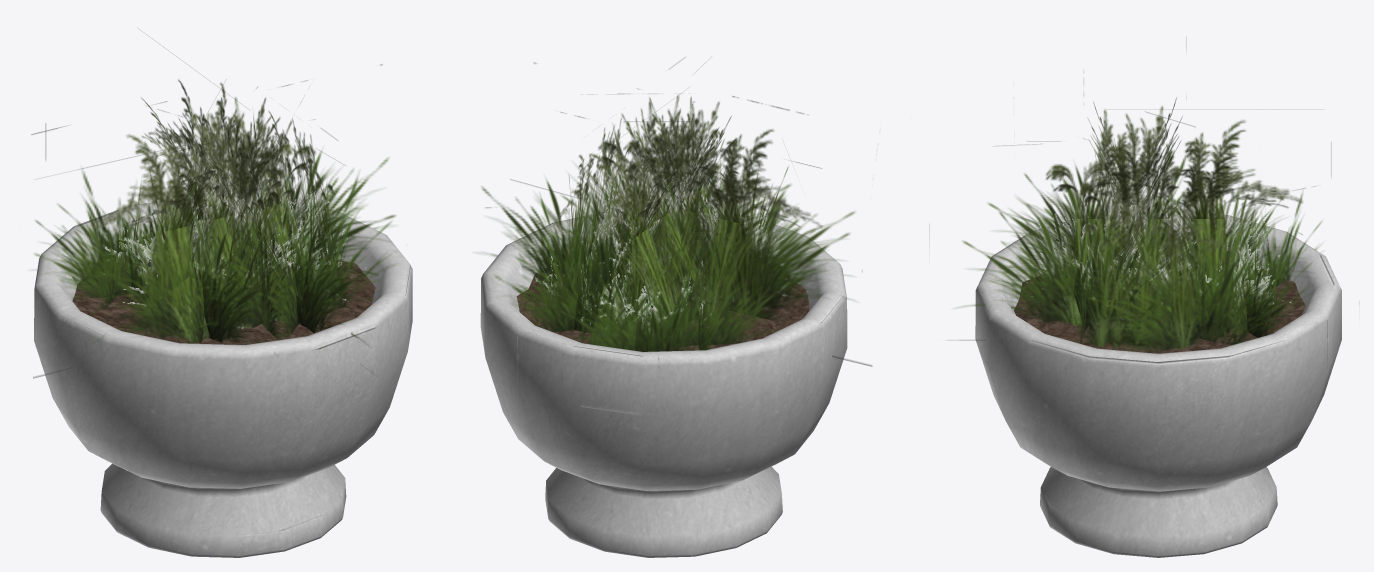
3 views of the same model, side by side, from view 1: azimuth 30°, elevation 25°; view 2: azimuth 150°, elevation 25°; view 3: azimuth 270°, elevation 25° (orthographic). The views are drawn at different scales.
Parts seen in each view (by area): view 1: Object_2; view 2: Object_2; view 3: Object_2.
Boxes of the visible parts, x1=… form: Object_2: x1=31, y1=29, x2=412, y2=557; Object_2: x1=480, y1=57, x2=872, y2=557; Object_2: x1=958, y1=97, x2=1341, y2=557.
Size of the model in its own units: 0.4069 by 0.4 by 0.4069.
Materials: 1 (1 with a texture image).
